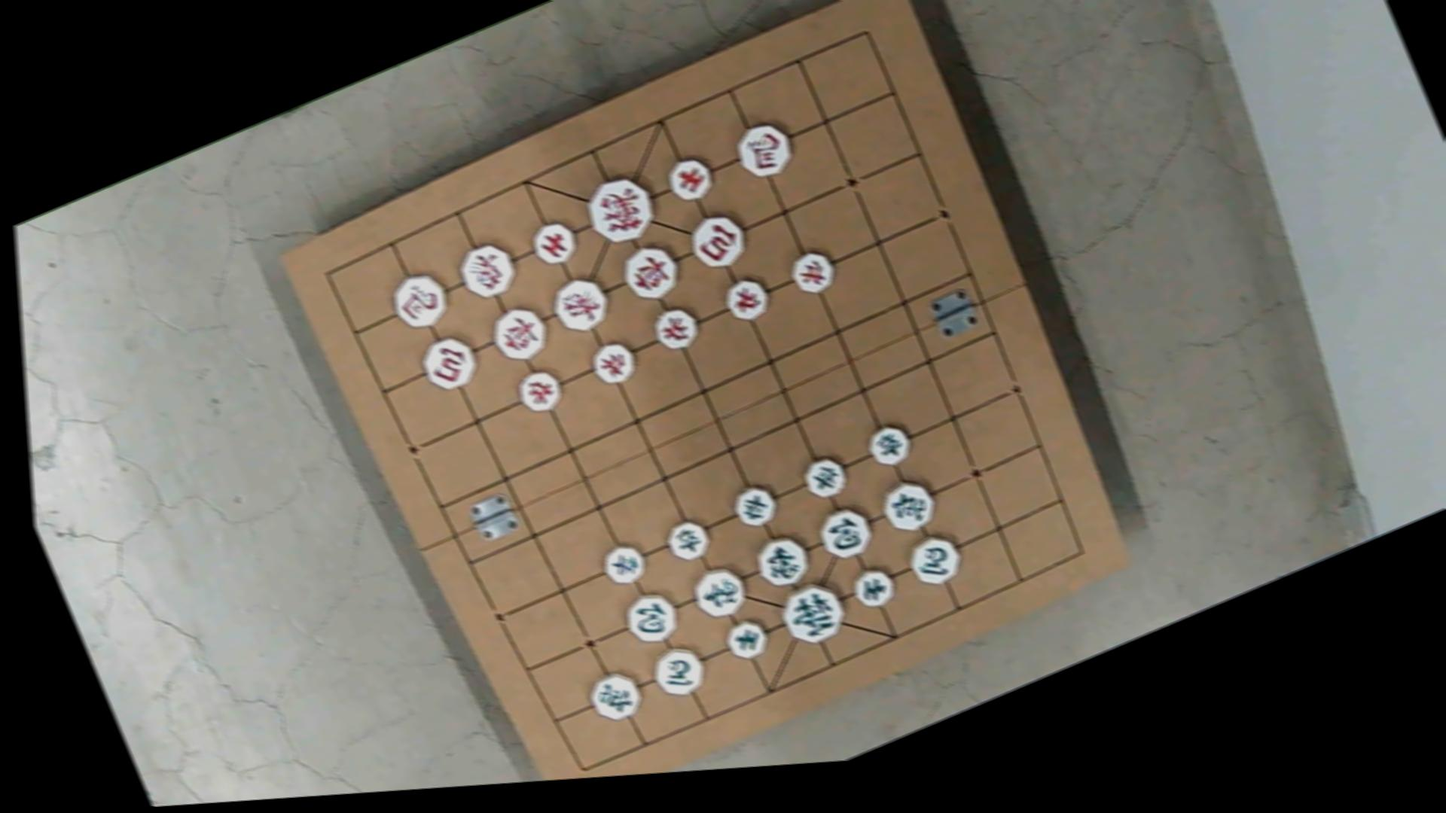cha_green: (875, 472, 945, 538), (584, 665, 648, 727)
cha_red: (485, 300, 557, 367), (617, 239, 687, 307)
jol_green: (596, 539, 651, 592), (799, 451, 853, 503), (728, 481, 782, 532), (864, 419, 917, 470), (663, 516, 715, 566)
jol_red: (786, 245, 841, 300), (512, 364, 568, 418), (720, 273, 775, 327), (587, 336, 641, 390), (649, 302, 703, 355)
ma_green: (902, 528, 969, 592), (646, 640, 712, 702)
ma_red: (386, 266, 456, 336), (730, 117, 800, 184)
po_green: (812, 500, 880, 566), (618, 586, 686, 650)
po_red: (684, 207, 754, 275), (415, 330, 485, 397)
sa_green: (847, 562, 901, 614), (720, 615, 773, 665)
sa_red: (662, 152, 718, 207), (527, 217, 581, 269)
sang_green: (749, 528, 817, 595), (685, 560, 754, 625)
sang_red: (546, 271, 615, 338), (453, 238, 523, 304)
wang_green: (773, 575, 853, 653)
wang_red: (578, 169, 664, 252)
